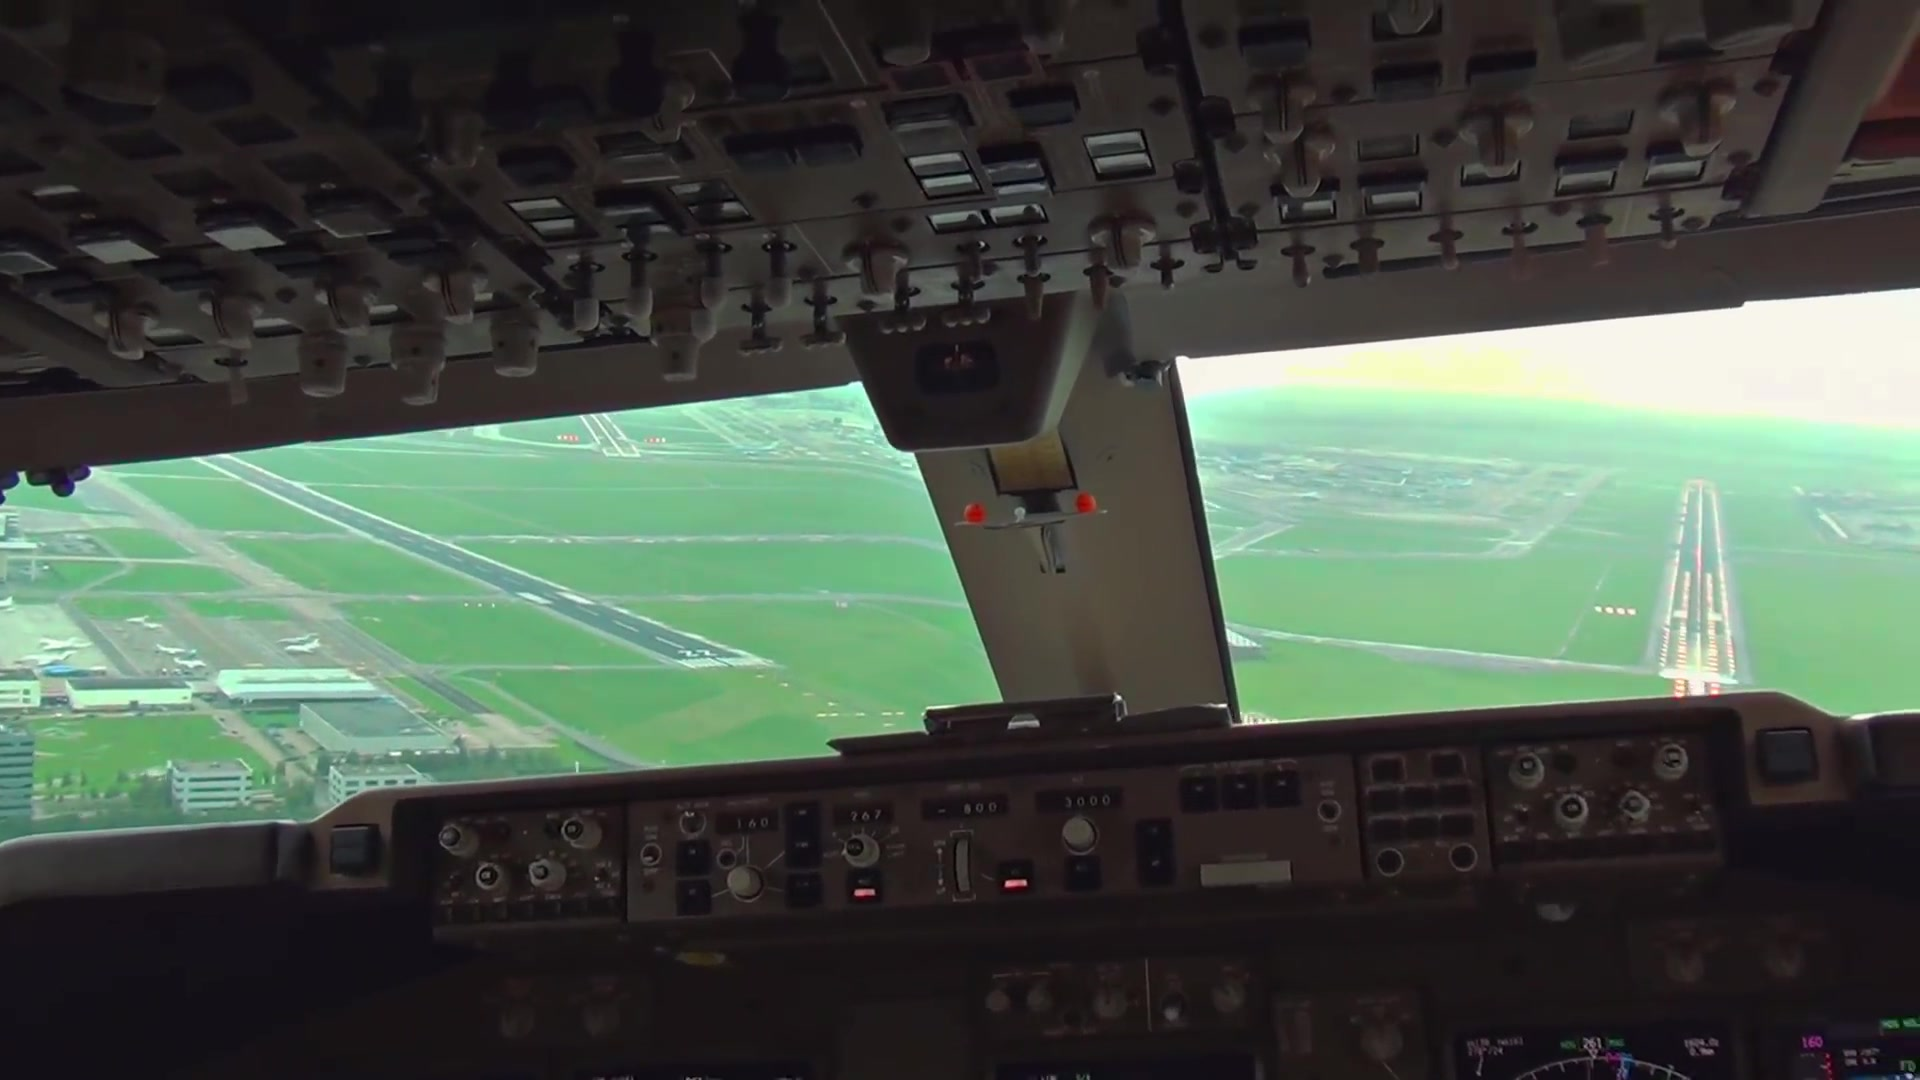entrance: (673, 650, 760, 669)
runway: (204, 460, 773, 676), (1659, 473, 1729, 683), (572, 404, 646, 467)
